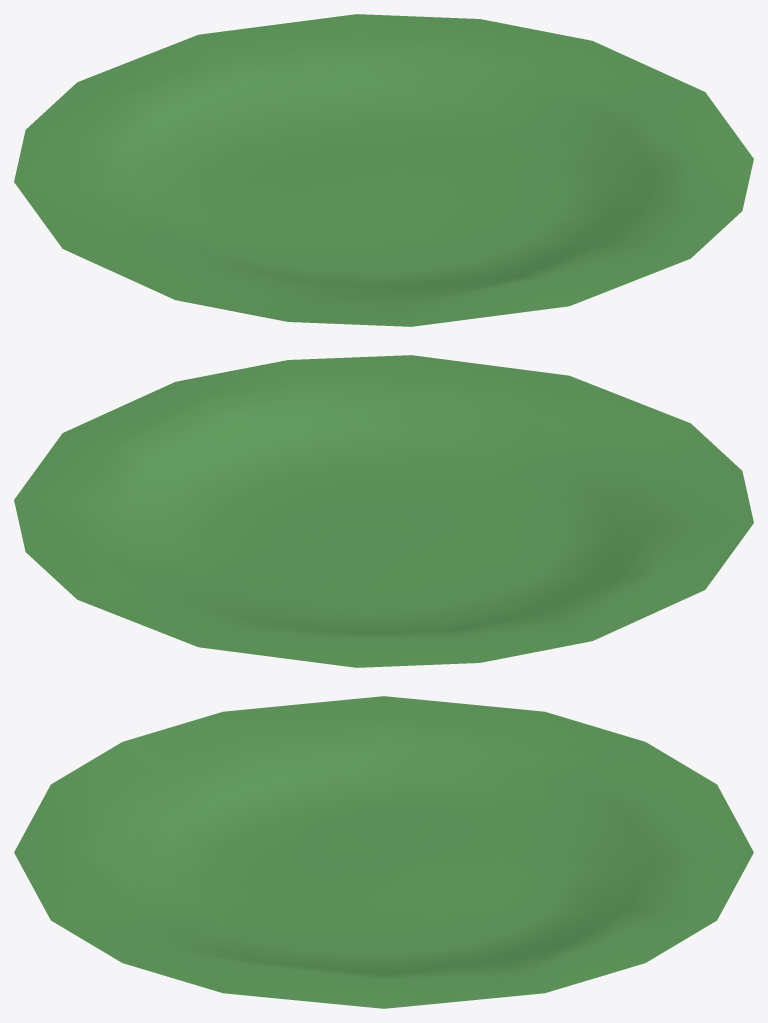
File: Terrain.fbx
The picture shows the model from 3 angles, top to bottom: view 1: azimuth 30°, elevation 25°; view 2: azimuth 150°, elevation 25°; view 3: azimuth 270°, elevation 25°; orthographic projection.
Parts seen in each view (by area): view 1: Terrain; view 2: Terrain; view 3: Terrain.
Part boxes in pixels (x1=…): Terrain: x1=14, y1=14, x2=753, y2=326; Terrain: x1=14, y1=355, x2=753, y2=667; Terrain: x1=14, y1=696, x2=753, y2=1008.
Size of the model in its own units: 13468 by 667 by 13468.
